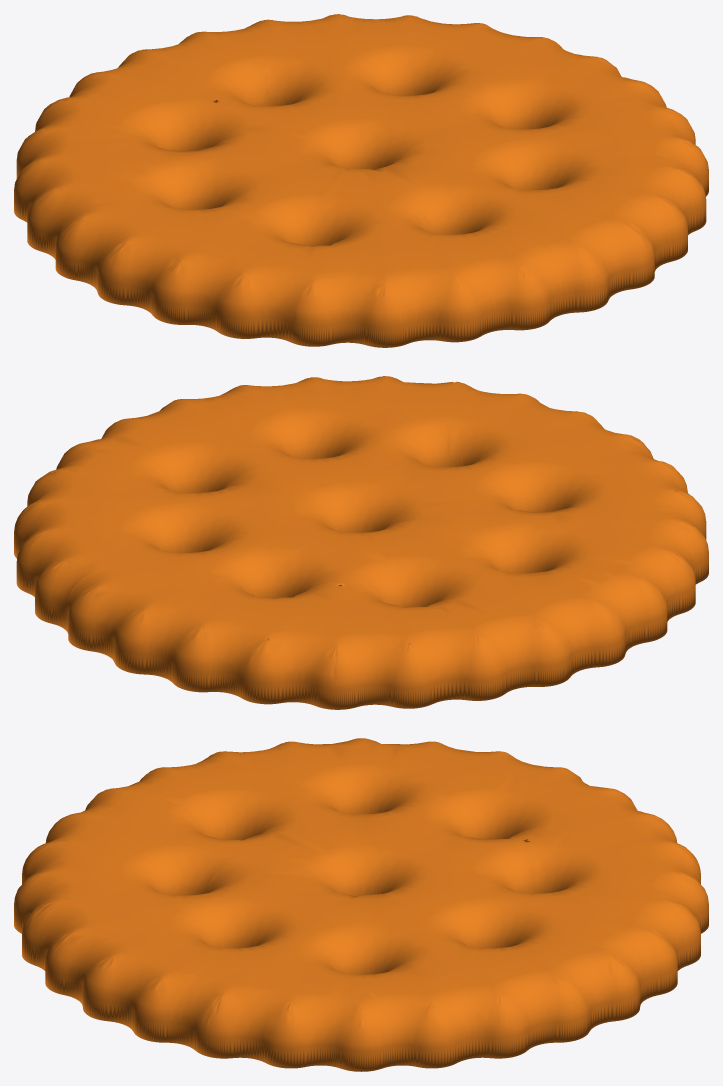
File: cracker.fbx
The picture shows the model from 3 angles, top to bottom: view 1: azimuth 30°, elevation 25°; view 2: azimuth 150°, elevation 25°; view 3: azimuth 270°, elevation 25°; orthographic projection.
Parts seen in each view (by area): view 1: cracker; view 2: cracker; view 3: cracker.
Part boxes in pixels (x1,y1,x2,y2): cracker: (14,14,708,347); cracker: (14,376,708,709); cracker: (14,738,708,1071).
Bounding box in the file's own units: 49.7 × 4.24 × 49.7.
